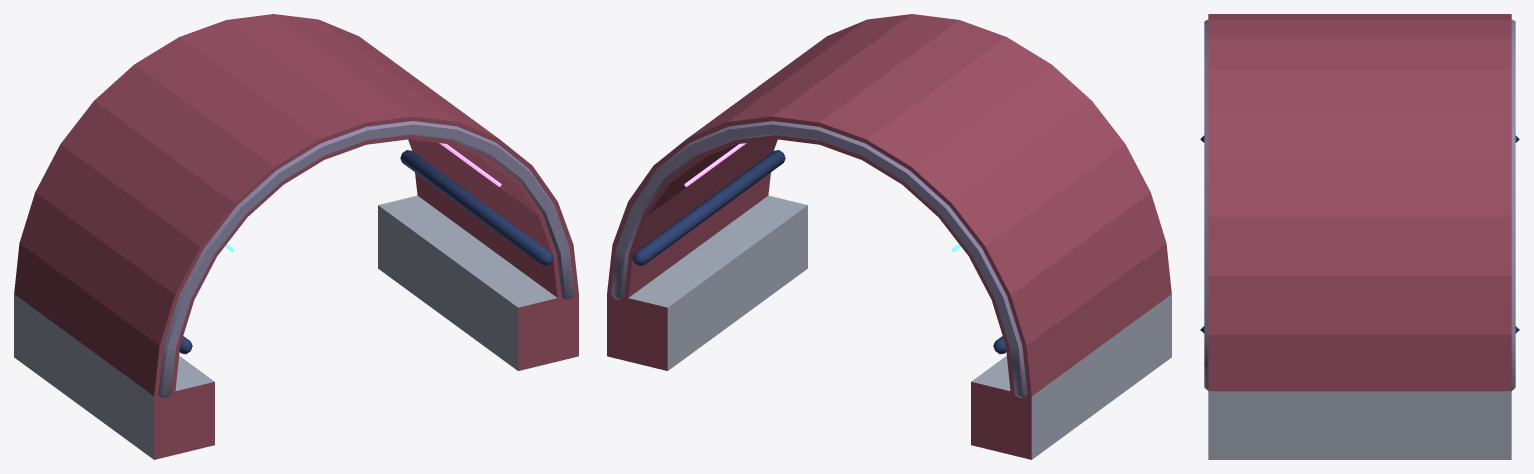
The model's file is W1_Tunnel_Straight.fbx.
3 views of the same model, side by side, from view 1: azimuth 30°, elevation 25°; view 2: azimuth 150°, elevation 25°; view 3: azimuth 270°, elevation 25° (orthographic). The views are drawn at different scales.
Visible parts, largest first — view 1: W1_Tunnel_Straight; view 2: W1_Tunnel_Straight; view 3: W1_Tunnel_Straight.
Boxes of the visible parts, x1,y1,x2,y2 form: W1_Tunnel_Straight: [14, 14, 578, 459]; W1_Tunnel_Straight: [607, 14, 1171, 459]; W1_Tunnel_Straight: [1200, 14, 1519, 459].
Bounding box in the file's own units: 14 × 9 × 8.44.
